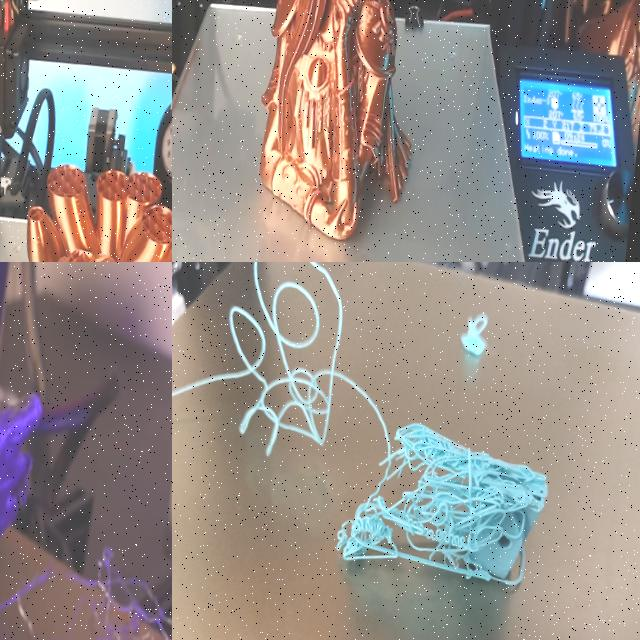spaghetti: (338, 387, 570, 630), (172, 262, 366, 490), (0, 531, 172, 640), (448, 294, 502, 369)
